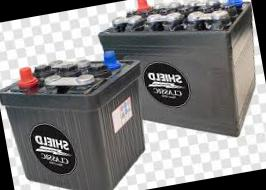battery: (86, 0, 266, 166), (0, 32, 177, 190)
